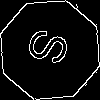S: (25, 25, 80, 72)
